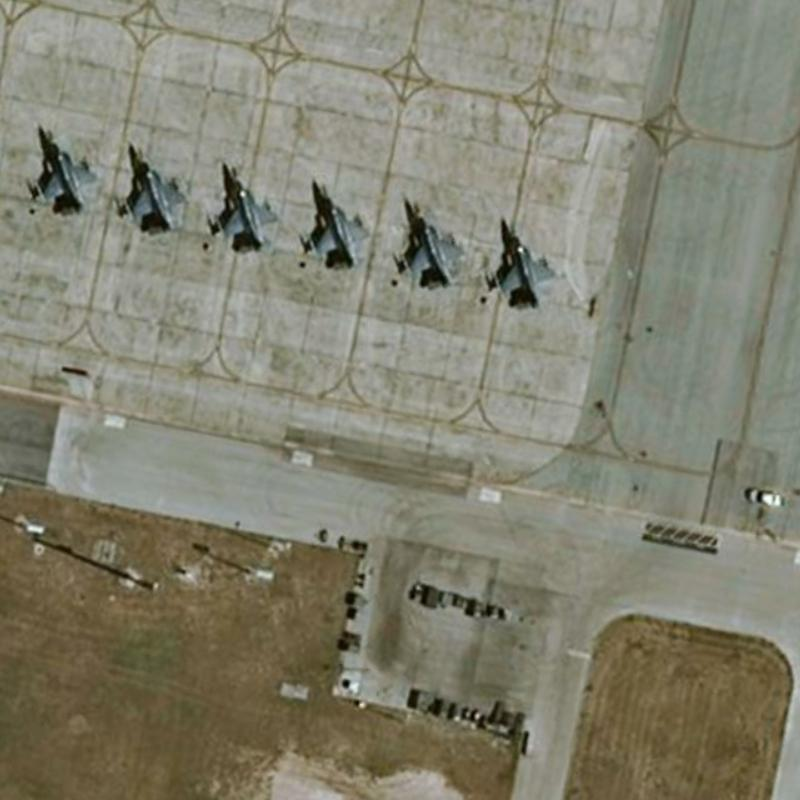A5: (388, 198, 472, 294), (207, 159, 285, 255), (485, 218, 562, 314), (117, 140, 191, 237), (300, 178, 376, 272), (28, 123, 101, 217)
